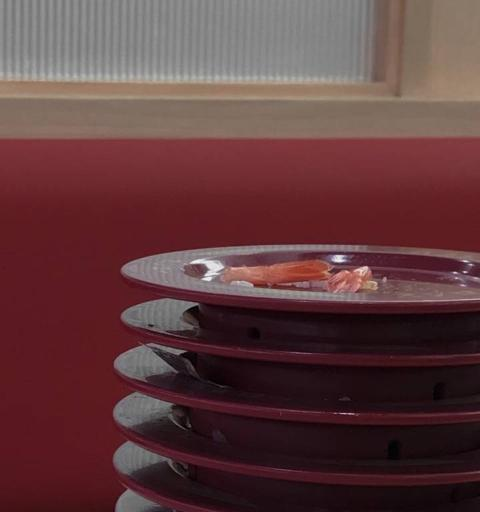Janred: (121, 217, 480, 331), (131, 321, 480, 377), (166, 380, 480, 429), (182, 438, 480, 485), (196, 489, 480, 512)
